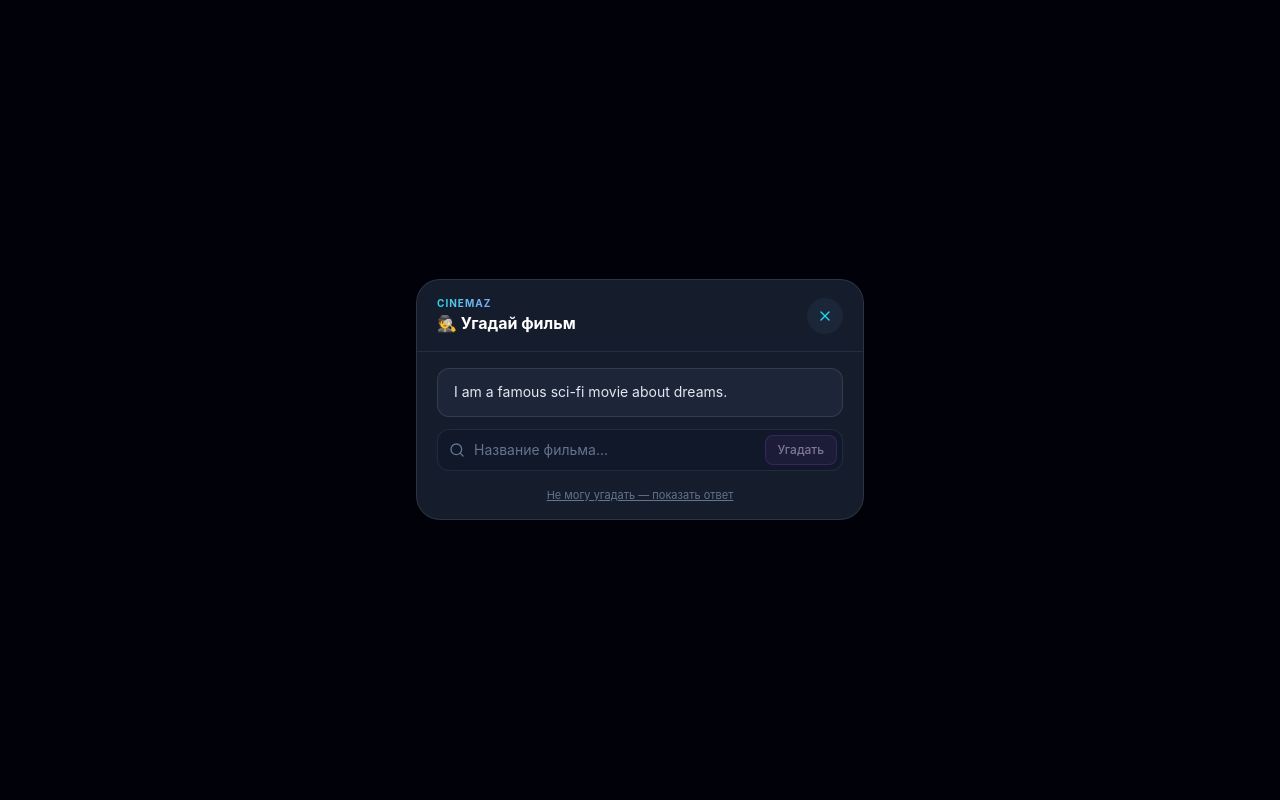
Scenario: GuessGameModal Component › correct guess transitions phase to won and displays Trophy
Note: Type correct answer and click submit
In the field with placeholder "Название фильма…": [640, 450] box [437, 429, 843, 471], type "Inception"
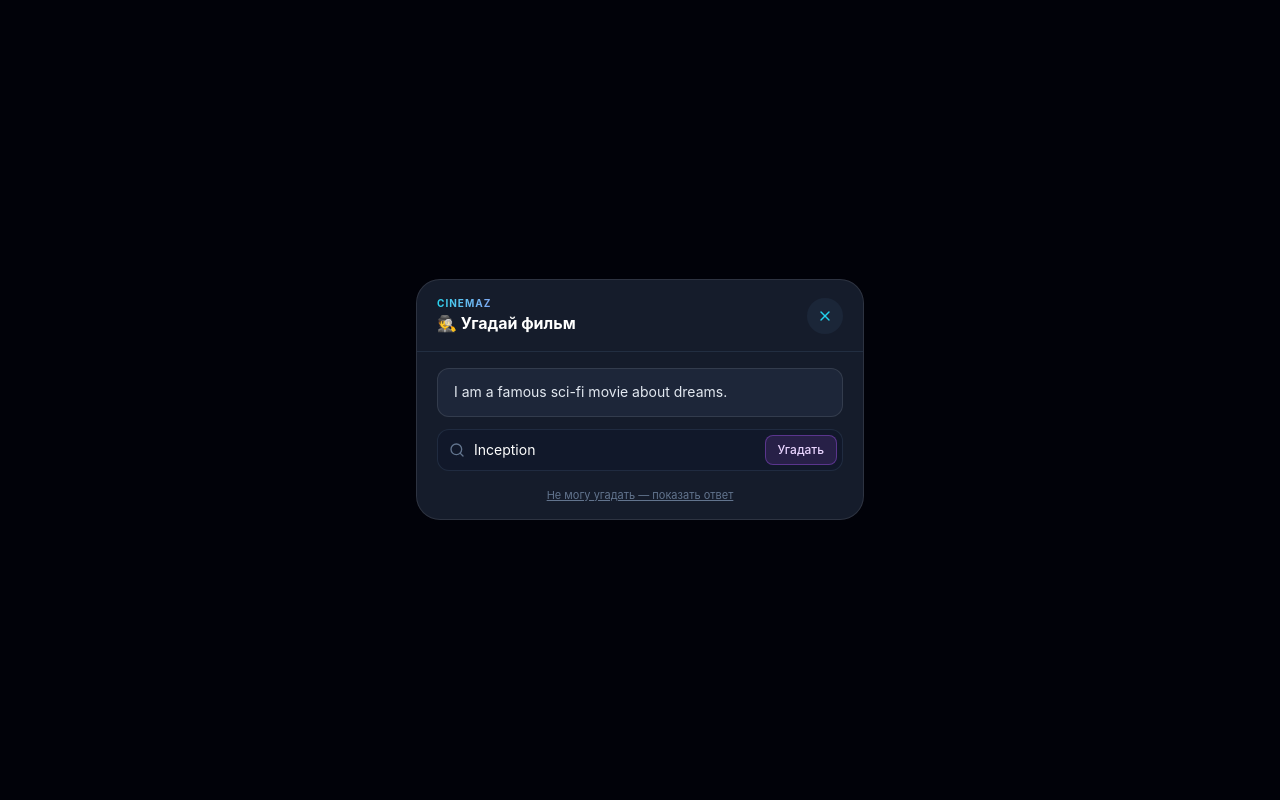
Click the button "Угадать": [801, 450] box [764, 435, 837, 465]
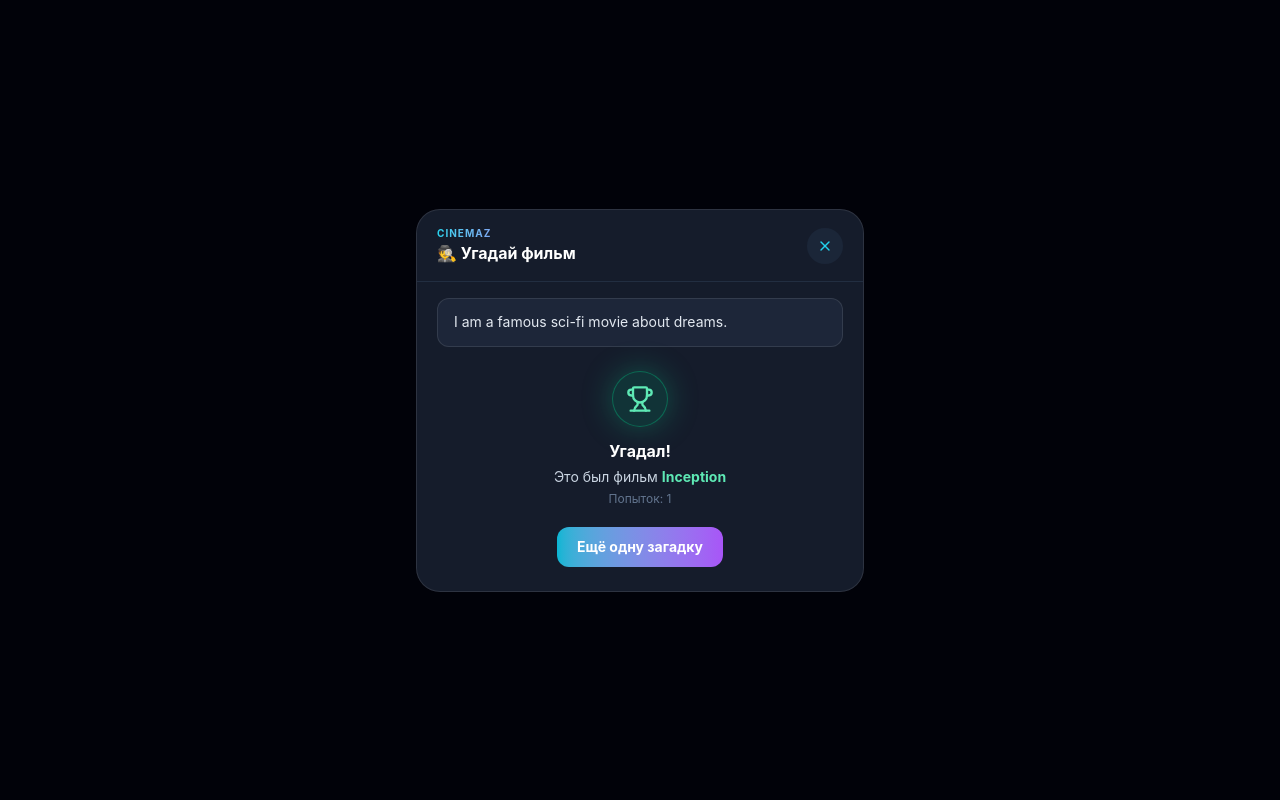
expect the heading "Угадал!" is shown: met, box [609, 438, 671, 462]
expect the text "Inception" is shown: met, box [662, 467, 726, 484]
expect the button "Ещё одну загадку" is shown: met, box [557, 526, 723, 566]
